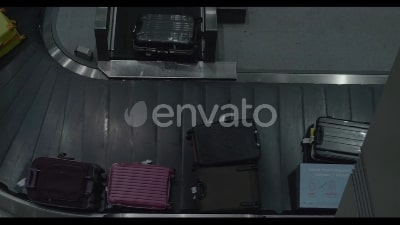baggage: (20, 151, 106, 218), (101, 160, 179, 213), (126, 12, 207, 63), (185, 119, 263, 168), (194, 165, 263, 219), (291, 162, 357, 213), (304, 116, 370, 161)
